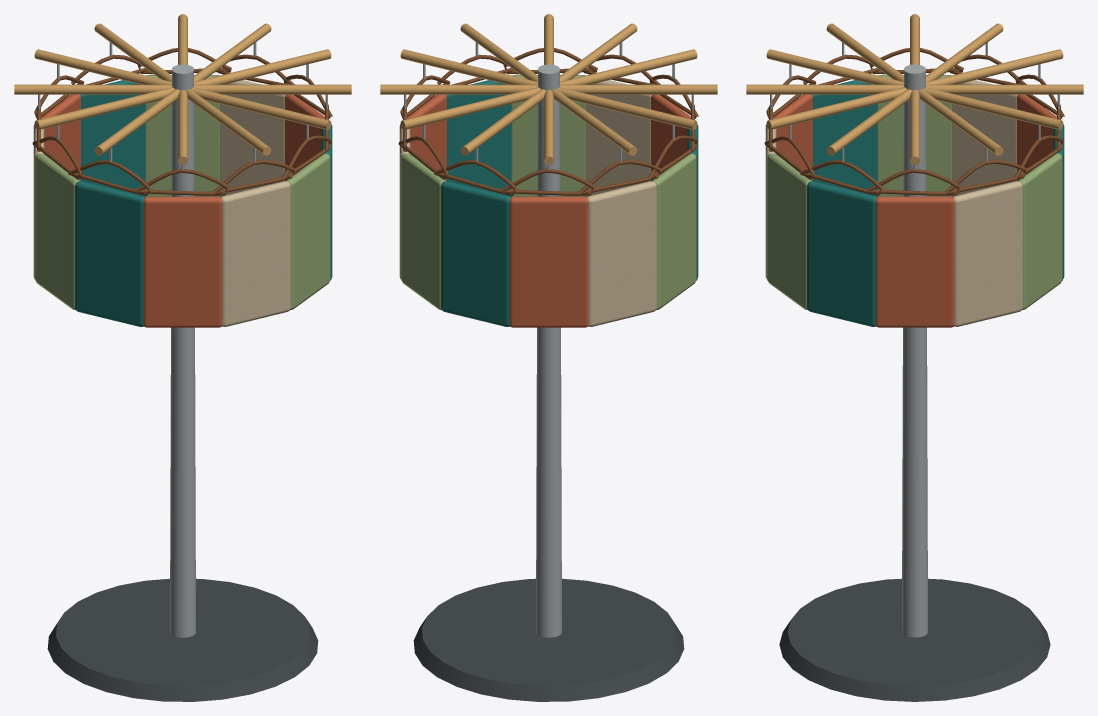
Rendered from garment-rack-a56a2da22934.glb.
3 renders of one model, left to right at view 1: azimuth 30°, elevation 25°; view 2: azimuth 150°, elevation 25°; view 3: azimuth 270°, elevation 25°, orthographic.
Visible parts, largest first — view 1: surface_graphite, surface_sage, surface_teal, surface_linen, surface_terracotta, surface_brass, surface_steel, surface_walnut; view 2: surface_graphite, surface_sage, surface_teal, surface_linen, surface_terracotta, surface_brass, surface_steel, surface_walnut; view 3: surface_graphite, surface_sage, surface_teal, surface_linen, surface_terracotta, surface_brass, surface_steel, surface_walnut.
Boxes of the visible parts, box(x1,y1,x2,y2) form: surface_graphite: box(47, 578, 318, 701); surface_sage: box(35, 75, 330, 310); surface_teal: box(75, 80, 332, 326); surface_linen: box(33, 80, 290, 326); surface_terracotta: box(41, 94, 324, 327); surface_brass: box(14, 14, 351, 165); surface_steel: box(38, 42, 327, 637); surface_walnut: box(32, 48, 332, 195); surface_graphite: box(413, 578, 684, 701); surface_sage: box(401, 75, 696, 310); surface_teal: box(441, 80, 698, 326); surface_linen: box(399, 80, 656, 326); surface_terracotta: box(407, 94, 690, 327); surface_brass: box(380, 14, 717, 165); surface_steel: box(404, 42, 693, 637); surface_walnut: box(398, 48, 698, 195); surface_graphite: box(779, 578, 1050, 701); surface_sage: box(767, 75, 1062, 309); surface_teal: box(807, 80, 1064, 326); surface_linen: box(765, 80, 1022, 326); surface_terracotta: box(773, 94, 1056, 327); surface_brass: box(746, 14, 1083, 165); surface_steel: box(770, 42, 1059, 637); surface_walnut: box(764, 48, 1064, 195).
Size of the model in its own units: 0.82 by 1.54 by 0.82.
Materials: 8 (2 with a texture image).
